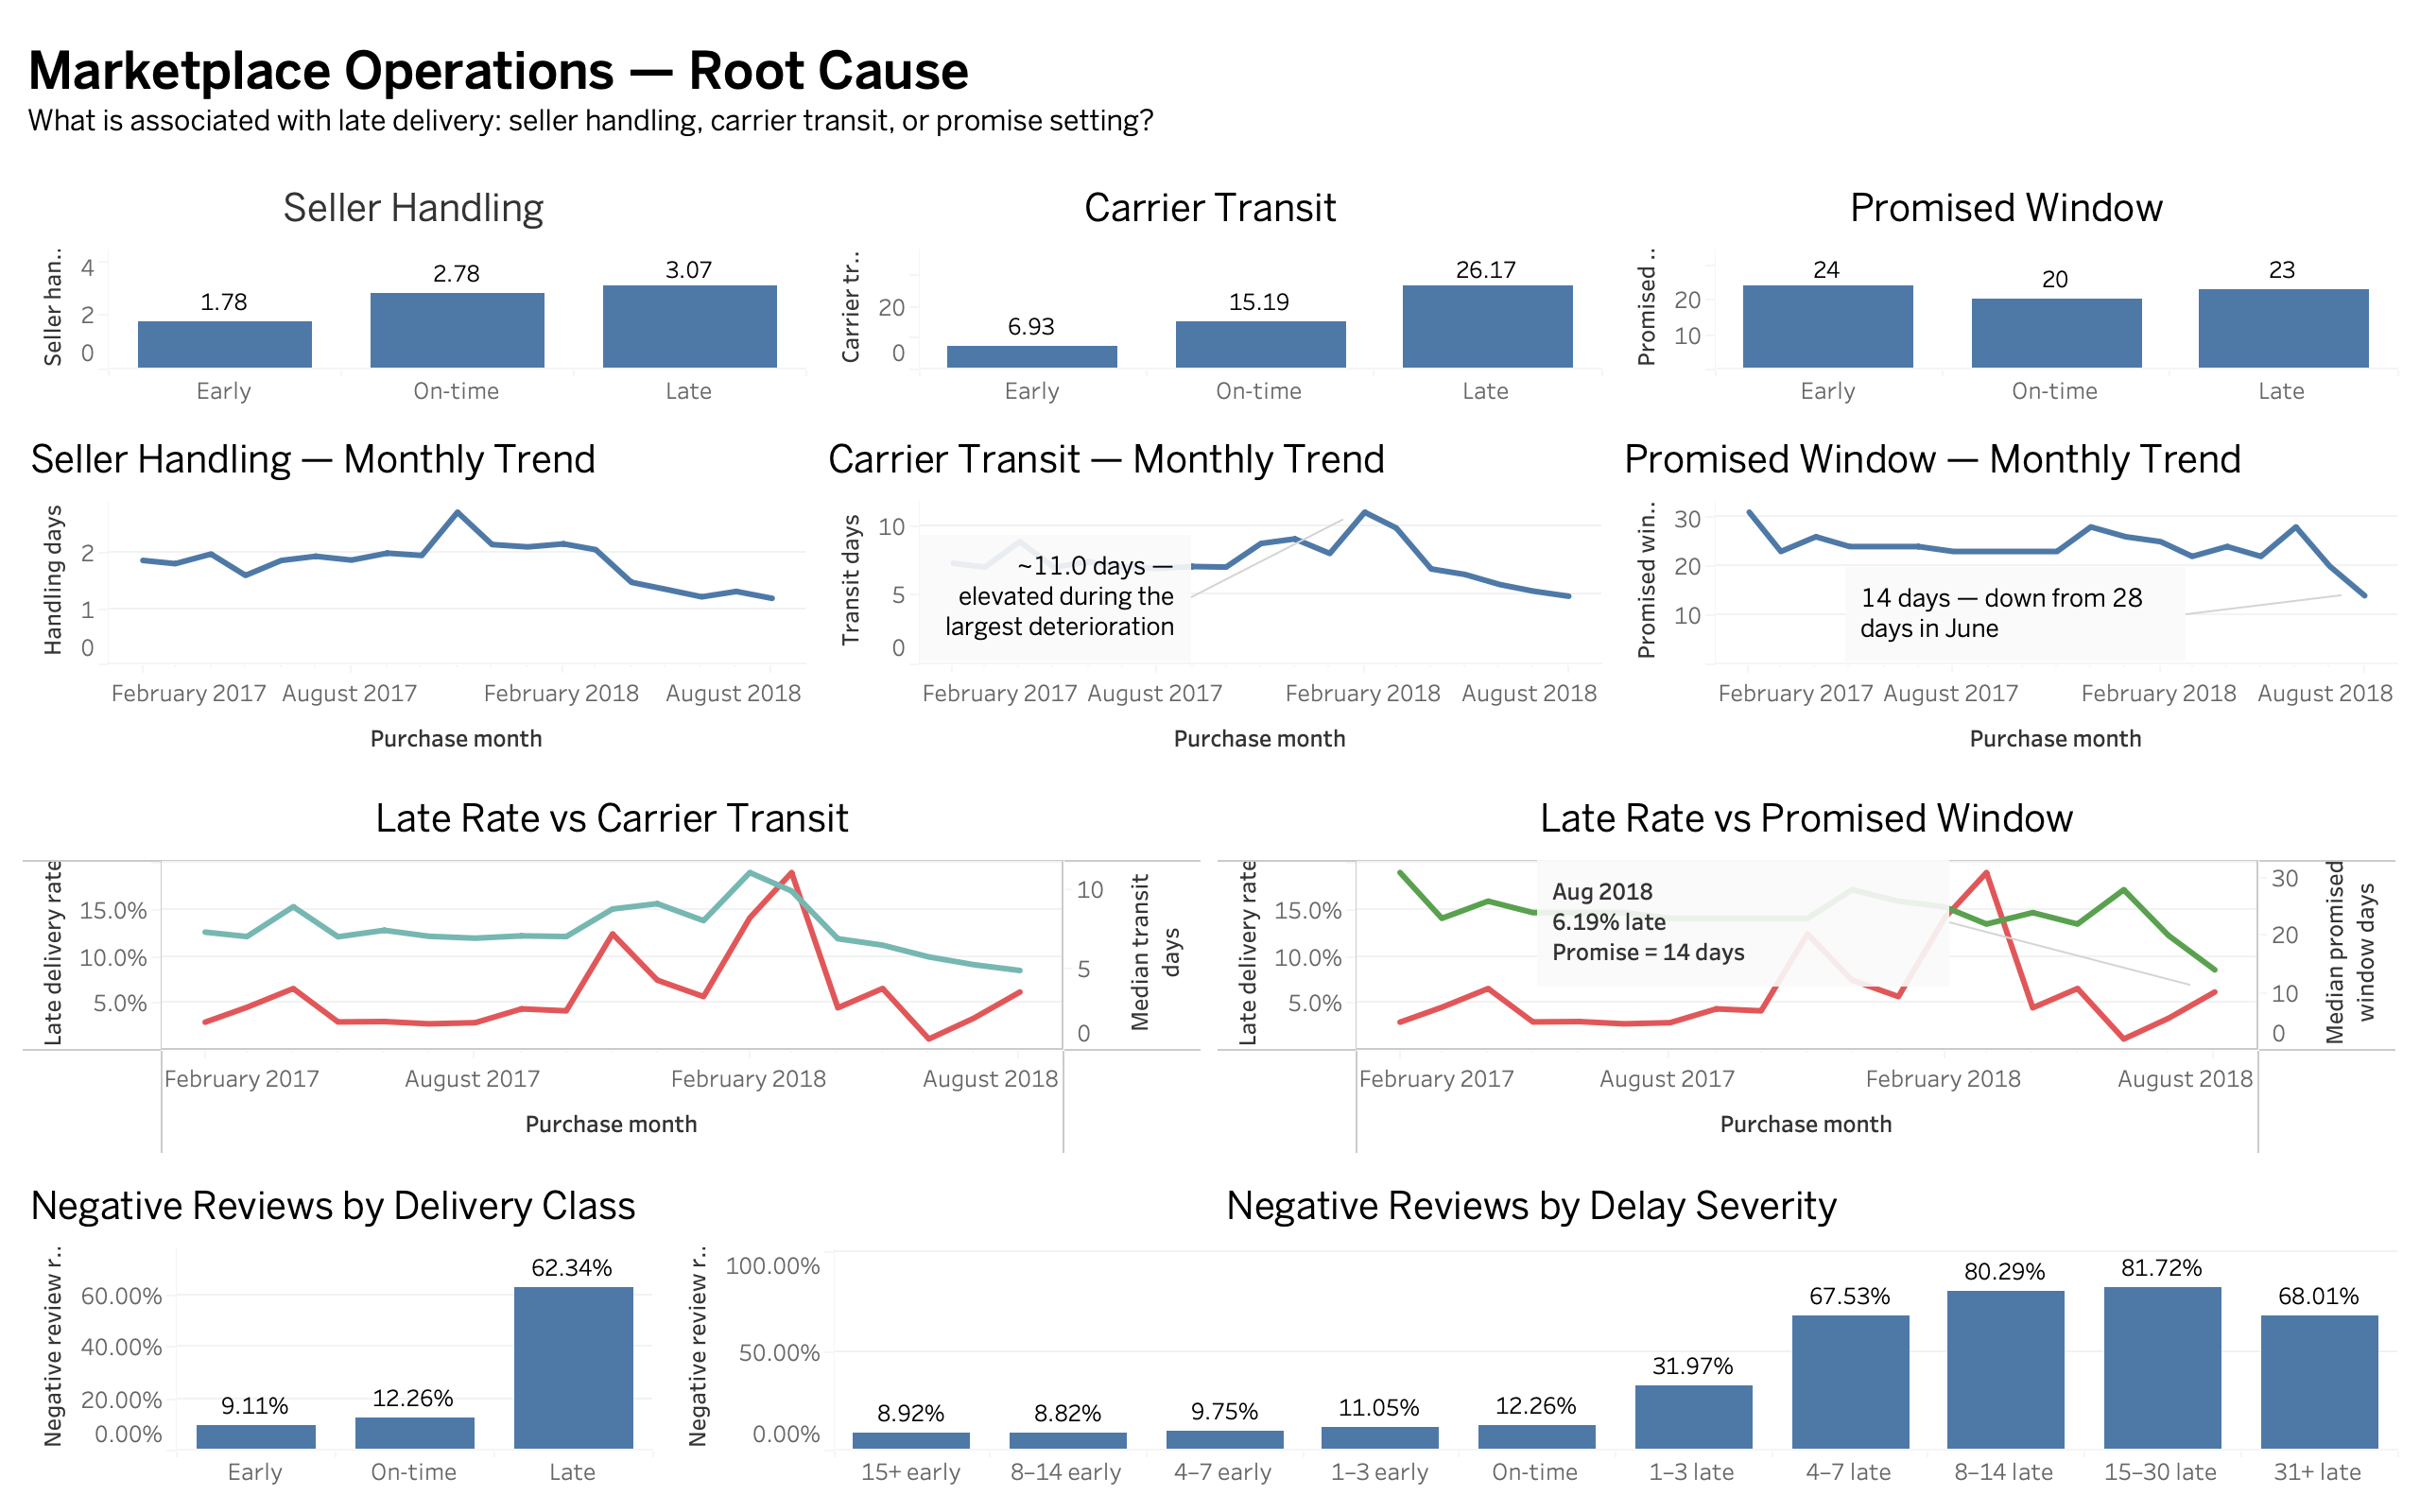

This screenshot's page, from the dashboard's own definition file:
{"tool":"tableau","page":{"name":"Dashboard 2","canvas":[1280,800],"ordinal":1},"visuals":[{"type":"text","box":[8,8,1264,79]},{"type":"worksheet","title":"Root Cause - Handling","mark":"Bar","rows":["median_seller_handling_days"],"cols":["delivery_class"],"box":[8,87,422,133]},{"type":"worksheet","title":"Root Cause - Transit","mark":"Bar","rows":["median_carrier_transit_days"],"cols":["delivery_class"],"box":[430,87,421,133]},{"type":"worksheet","title":"Root Cause - Promise","mark":"Bar","rows":["median_promised_window_days"],"cols":["delivery_class"],"box":[851,87,421,133]},{"type":"worksheet","title":"Trend - Seller Handling","mark":"Automatic","rows":["median_seller_handling_days"],"cols":["purchase_month"],"box":[8,220,422,190]},{"type":"worksheet","title":"Trend - Carrier Transit","mark":"Automatic","rows":["median_carrier_transit_days"],"cols":["purchase_month"],"box":[430,220,421,190]},{"type":"worksheet","title":"Trend - Promised Window","mark":"Automatic","rows":["median_promised_window_days"],"cols":["purchase_month"],"box":[851,220,421,190]},{"type":"worksheet","title":"Root Cause - Late Rate vs Transit","mark":"Automatic","rows":["late_delivery_rate","median_carrier_transit_days"],"cols":["purchase_month"],"box":[8,409.9,632,205.1]},{"type":"worksheet","title":"Root Cause - Late Rate vs Promise","mark":"Automatic","rows":["late_delivery_rate","median_promised_window_days"],"cols":["purchase_month"],"box":[640,409.9,632,205.1]},{"type":"worksheet","title":"Root Cause - CX by Delivery Class","mark":"Bar","rows":["negative_review_rate"],"cols":["delivery_class"],"box":[8,615,341,177]},{"type":"worksheet","title":"Root Cause - CX by Delay Band","mark":"Bar","rows":["negative_review_rate"],"cols":["delay_band"],"box":[349,615,923,177]}]}

Visuals, with their boxes in screenshot pixels (x1, y1, x2, y2), scaled from the page's 1280x800 canvas onto the 2420x1512 screenshot:
text: l=15, t=15, r=2405, b=164
"Root Cause - Handling" worksheet (Bar marks): l=15, t=164, r=813, b=416
"Root Cause - Transit" worksheet (Bar marks): l=813, t=164, r=1609, b=416
"Root Cause - Promise" worksheet (Bar marks): l=1609, t=164, r=2405, b=416
"Trend - Seller Handling" worksheet: l=15, t=416, r=813, b=775
"Trend - Carrier Transit" worksheet: l=813, t=416, r=1609, b=775
"Trend - Promised Window" worksheet: l=1609, t=416, r=2405, b=775
"Root Cause - Late Rate vs Transit" worksheet: l=15, t=775, r=1210, b=1162
"Root Cause - Late Rate vs Promise" worksheet: l=1210, t=775, r=2405, b=1162
"Root Cause - CX by Delivery Class" worksheet (Bar marks): l=15, t=1162, r=660, b=1497
"Root Cause - CX by Delay Band" worksheet (Bar marks): l=660, t=1162, r=2405, b=1497
